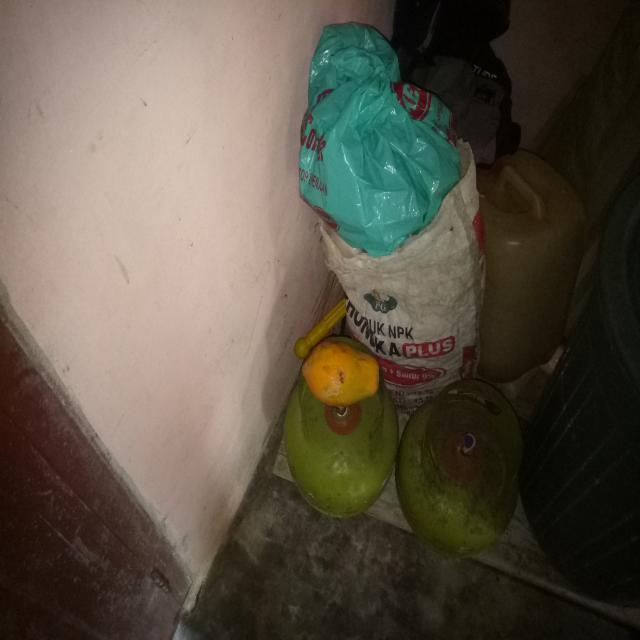Pepaya rippen: (301, 336, 380, 406)
